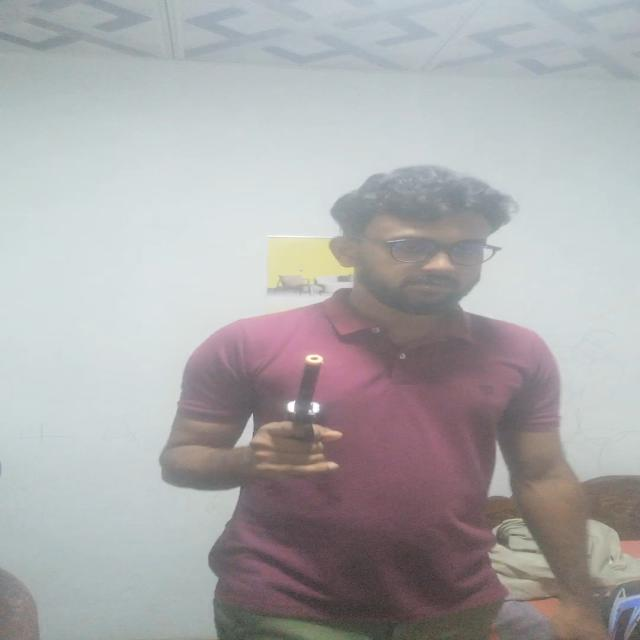Gun_Holder: (254, 349, 356, 479)
Person: (161, 159, 612, 640)
